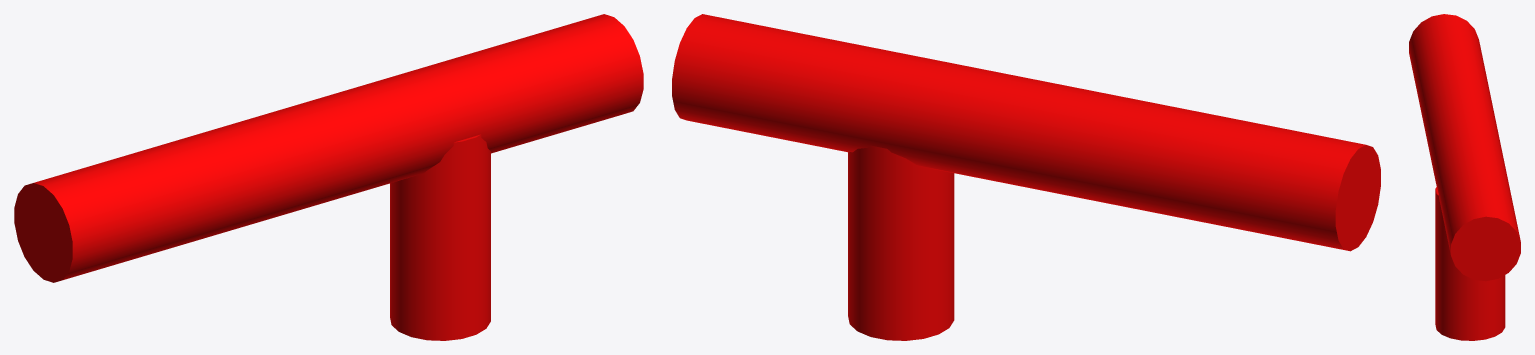
The model's file is SM_TapHandle.fbx.
3 renders of one model, left to right at view 1: azimuth 30°, elevation 25°; view 2: azimuth 150°, elevation 25°; view 3: azimuth 270°, elevation 25°, orthographic. The views are drawn at different scales.
Parts seen in each view (by area): view 1: Sink.004; view 2: Sink.004; view 3: Sink.004.
Part boxes in pixels (x1,y1,x2,y2): Sink.004: (14, 14, 643, 340); Sink.004: (672, 14, 1380, 340); Sink.004: (1409, 14, 1520, 340).
Bounding box in the file's own units: 11.51 × 4.5 × 2.65.
